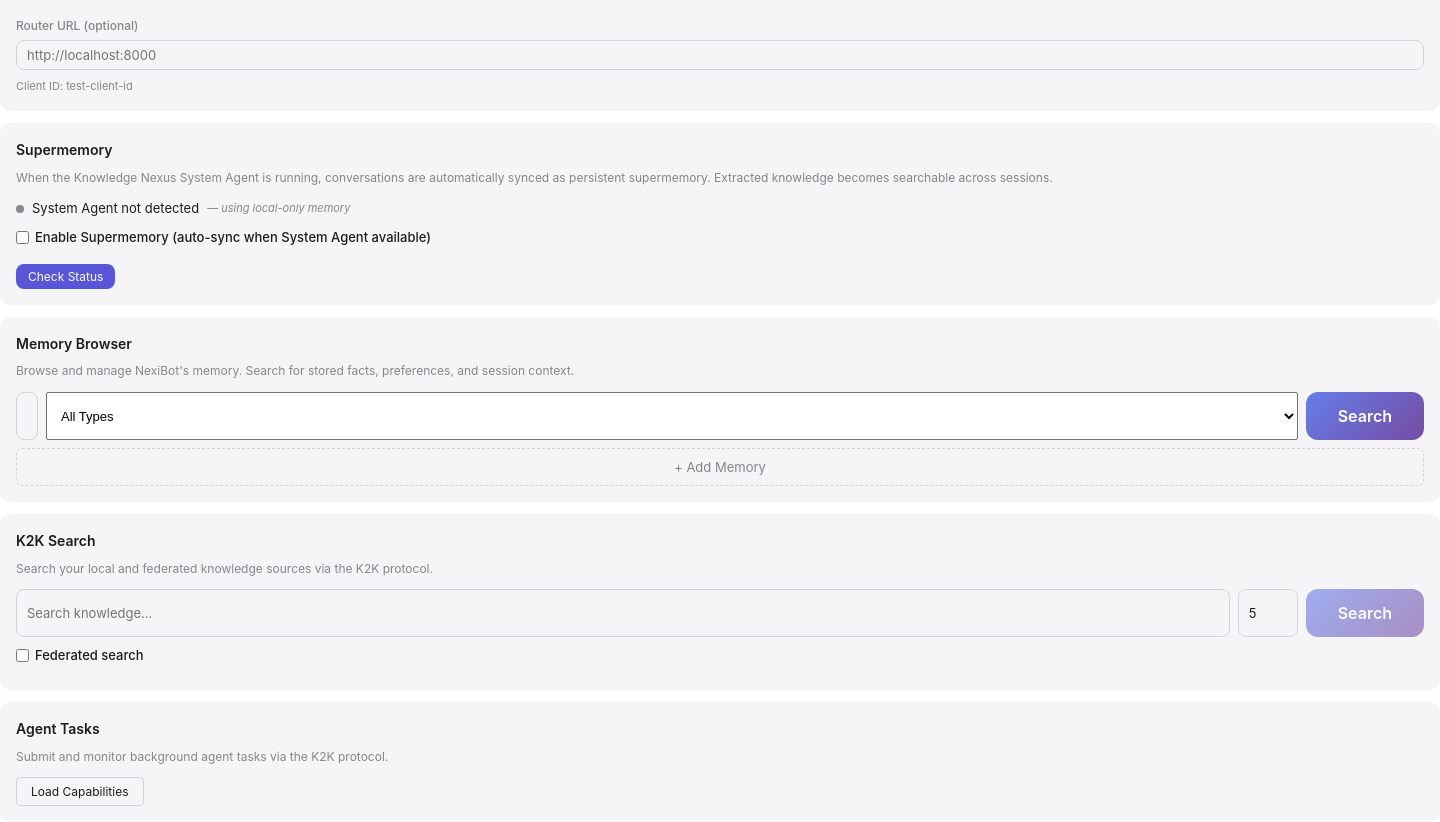
Test: Agent capabilities › shows capability select after Load Capabilities returns results
The image size is (1440, 822).
(page scrolled)
Click the button "Load Capabilities".
click(80, 792)  # box [16,777,144,806]
(page scrolled)
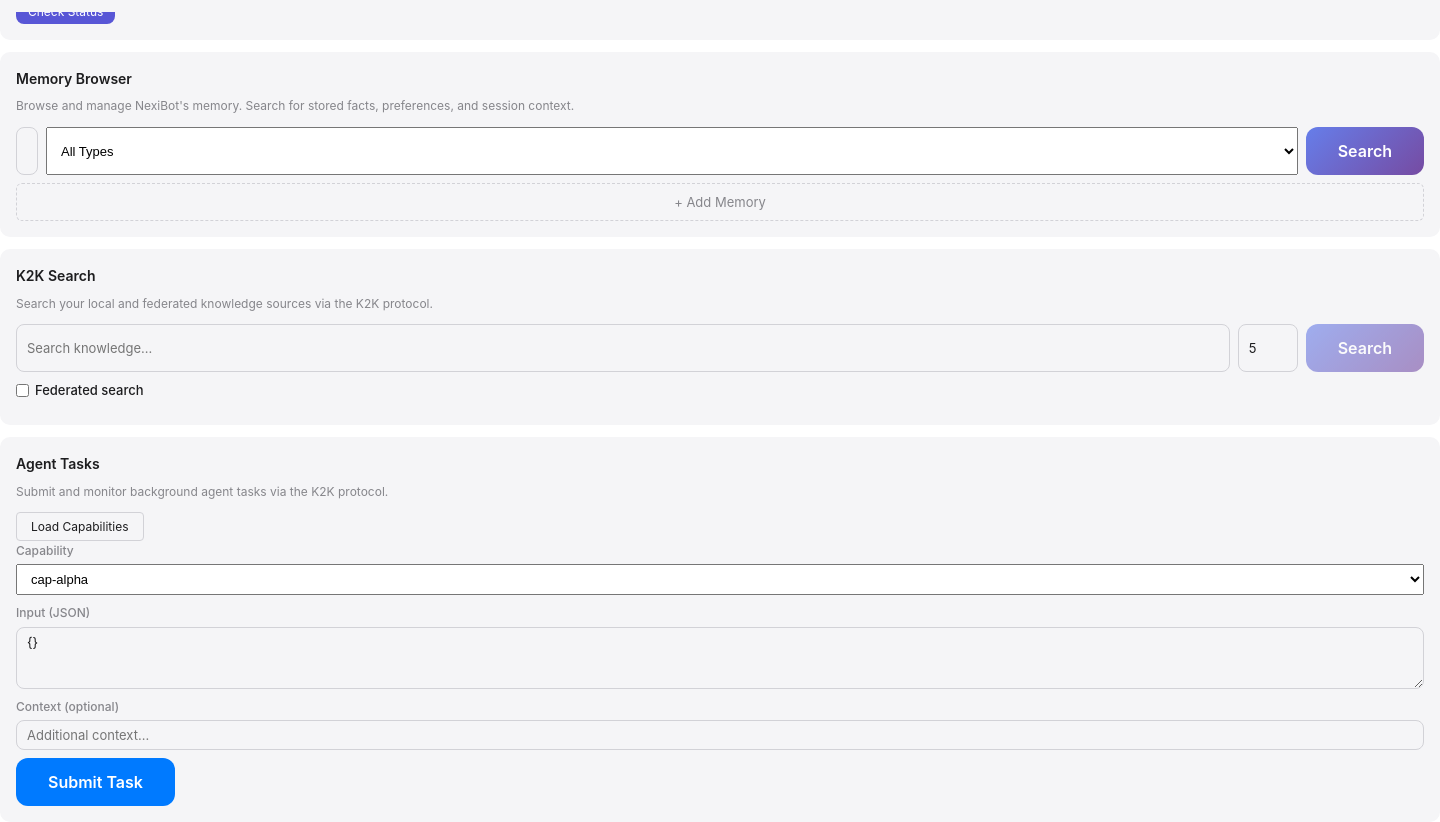
Now the text "Capability" is shown, box [16,543,74,558]
Now the dropdown showing "cap-alpha" is shown, box [16,564,1424,596]
